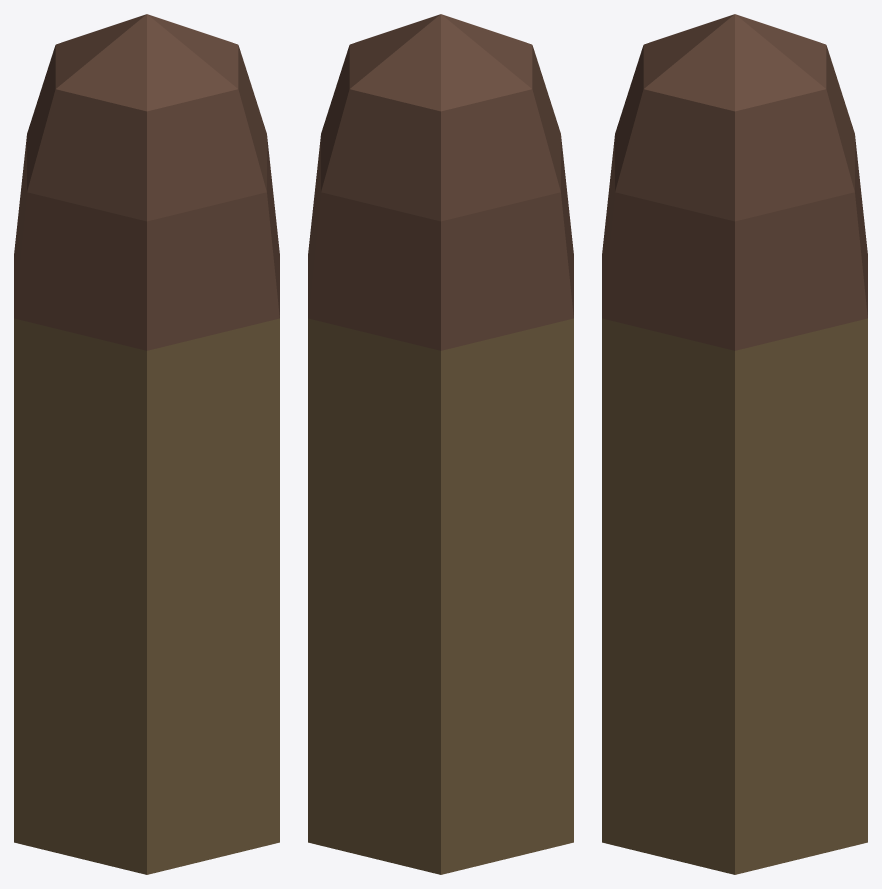
The model's file is SM_Wep_Ammo_Bullet_01.fbx.
The picture shows the model from 3 angles, left to right: view 1: azimuth 30°, elevation 25°; view 2: azimuth 150°, elevation 25°; view 3: azimuth 270°, elevation 25°; orthographic projection.
Visible parts, largest first — view 1: SM_Wep_Ammo_Bullet_01; view 2: SM_Wep_Ammo_Bullet_01; view 3: SM_Wep_Ammo_Bullet_01.
Boxes of the visible parts, x1=… form: SM_Wep_Ammo_Bullet_01: x1=14, y1=14, x2=279, y2=874; SM_Wep_Ammo_Bullet_01: x1=308, y1=14, x2=573, y2=874; SM_Wep_Ammo_Bullet_01: x1=602, y1=14, x2=867, y2=874.
Size of the model in its own units: 1.26 by 3.61 by 1.09.
